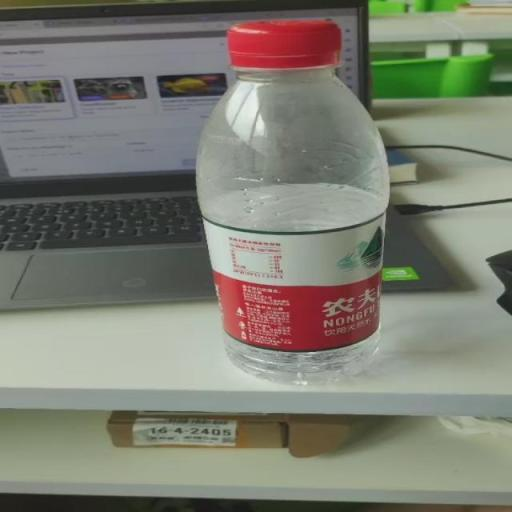bottle: (147, 8, 449, 399)
